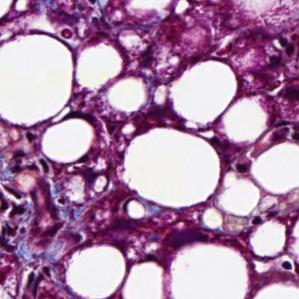inflammation: (0, 182, 35, 259), (273, 255, 299, 281)
